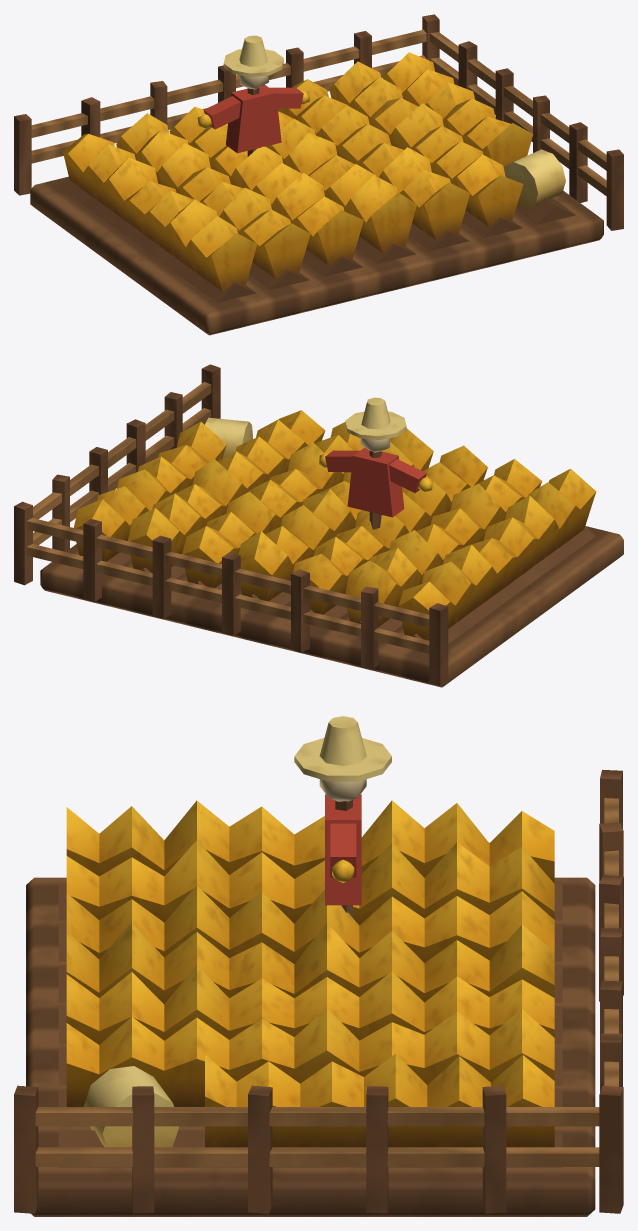
File: wheat_field.glb
3 views of the same model, one above another, from view 1: azimuth 30°, elevation 25°; view 2: azimuth 150°, elevation 25°; view 3: azimuth 270°, elevation 25° (orthographic). The views are drawn at different scales.
Visible parts, largest first — view 1: wheat_field; view 2: wheat_field; view 3: wheat_field.
Boxes of the visible parts, left/top/right/bottom form: wheat_field: left=14, top=14, right=623, bottom=335; wheat_field: left=14, top=364, right=623, bottom=687; wheat_field: left=14, top=716, right=623, bottom=1216.
Size of the model in its own units: 0.9495 by 0.41 by 0.7502.
Materials: 1 (1 with a texture image).
